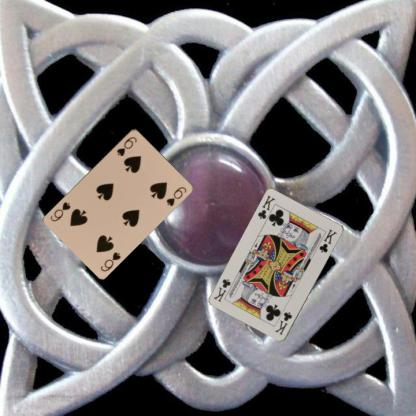6s: (98, 249, 122, 273), (114, 134, 138, 157)
Kc: (255, 193, 277, 221), (272, 310, 294, 336)
